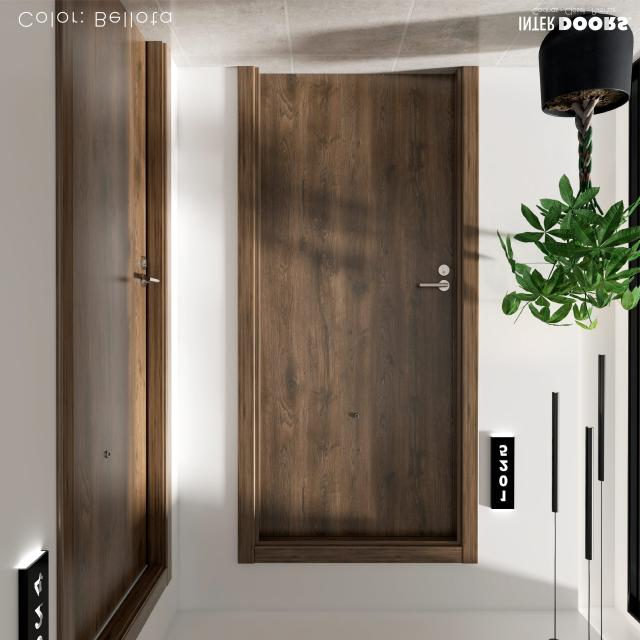door: (237, 68, 467, 564)
